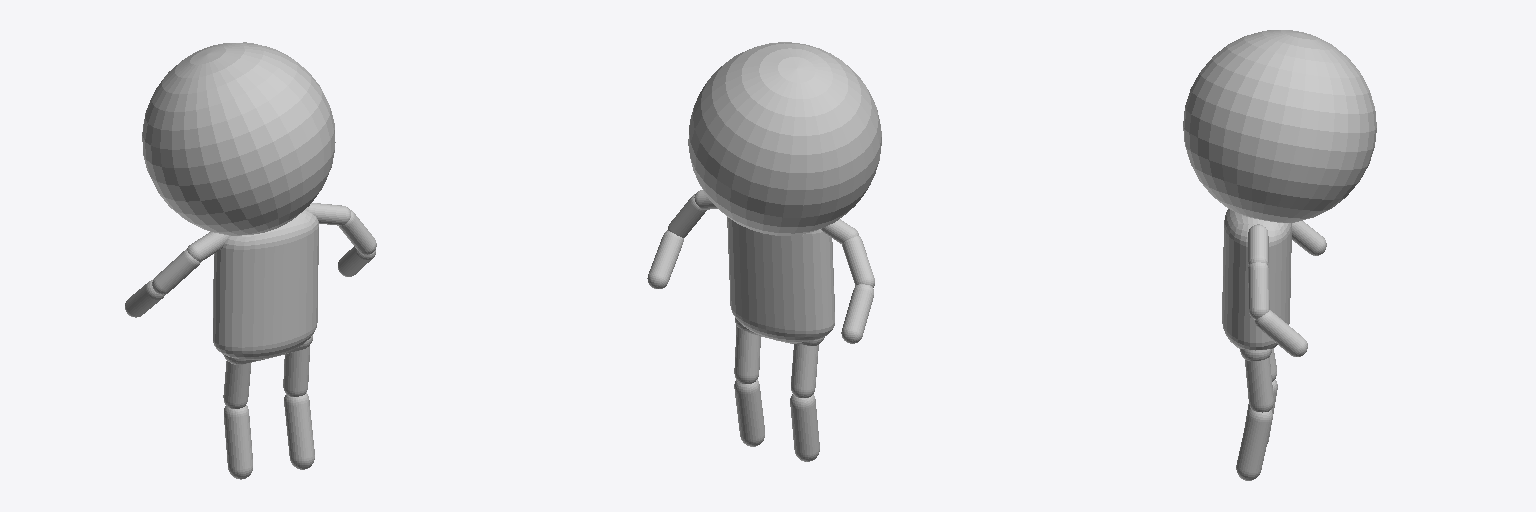
Rendered from Stickman_000070.obj.
The picture shows the model from 3 angles: view 1: azimuth 30°, elevation 25°; view 2: azimuth 150°, elevation 25°; view 3: azimuth 270°, elevation 25°; orthographic projection.
Parts seen in each view (by area): view 1: Head_Sphere.001, Body_Roundcube.002, LowerLegLeft_Roundcube.013, LowerLegRight_Roundcube.011, UpperLegLeft_Roundcube.012, UpperLegRight_Roundcube.010, UpperArmRight_Roundcube.015, UpperArmLeft_Roundcube.018, LowerArmRight_Roundcube.016, ShoulderLeft_Roundcube.017, ShoulderRight_Roundcube.014, LowerArmLeft_Roundcube.019; view 2: Head_Sphere.001, Body_Roundcube.002, LowerLegRight_Roundcube.011, LowerLegLeft_Roundcube.013, UpperLegRight_Roundcube.010, UpperLegLeft_Roundcube.012, LowerArmRight_Roundcube.016, LowerArmLeft_Roundcube.019, UpperArmRight_Roundcube.015, UpperArmLeft_Roundcube.018; view 3: Head_Sphere.001, Body_Roundcube.002, LowerLegLeft_Roundcube.013, UpperLegLeft_Roundcube.012, LowerArmLeft_Roundcube.019, UpperArmLeft_Roundcube.018, LowerArmRight_Roundcube.016, ShoulderLeft_Roundcube.017.
Part boxes in pixels (left/top/right/bottom): Head_Sphere.001: left=142, top=42, right=335, bottom=235; Body_Roundcube.002: left=213, top=209, right=318, bottom=359; LowerLegLeft_Roundcube.013: left=284, top=392, right=314, bottom=469; LowerLegRight_Roundcube.011: left=224, top=405, right=252, bottom=479; UpperLegLeft_Roundcube.012: left=283, top=346, right=309, bottom=396; UpperLegRight_Roundcube.010: left=223, top=361, right=250, bottom=408; UpperArmRight_Roundcube.015: left=152, top=249, right=200, bottom=294; UpperArmLeft_Roundcube.018: left=339, top=210, right=376, bottom=254; LowerArmRight_Roundcube.016: left=125, top=279, right=165, bottom=317; ShoulderLeft_Roundcube.017: left=306, top=203, right=350, bottom=225; ShoulderRight_Roundcube.014: left=187, top=232, right=228, bottom=261; LowerArmLeft_Roundcube.019: left=338, top=246, right=375, bottom=276; Head_Sphere.001: left=688, top=42, right=881, bottom=235; Body_Roundcube.002: left=727, top=217, right=834, bottom=342; LowerLegRight_Roundcube.011: left=790, top=394, right=819, bottom=461; LowerLegLeft_Roundcube.013: left=734, top=379, right=764, bottom=446; UpperLegRight_Roundcube.010: left=791, top=344, right=818, bottom=397; UpperLegLeft_Roundcube.012: left=734, top=325, right=760, bottom=383; LowerArmRight_Roundcube.016: left=841, top=284, right=873, bottom=343; LowerArmLeft_Roundcube.019: left=647, top=230, right=683, bottom=288; UpperArmRight_Roundcube.015: left=842, top=236, right=874, bottom=287; UpperArmLeft_Roundcube.018: left=668, top=194, right=706, bottom=237; Head_Sphere.001: left=1183, top=30, right=1376, bottom=222; Body_Roundcube.002: left=1222, top=209, right=1291, bottom=350; LowerLegLeft_Roundcube.013: left=1236, top=408, right=1272, bottom=480; UpperLegLeft_Roundcube.012: left=1245, top=357, right=1273, bottom=412; LowerArmLeft_Roundcube.019: left=1255, top=310, right=1307, bottom=356; UpperArmLeft_Roundcube.018: left=1248, top=262, right=1269, bottom=319; LowerArmRight_Roundcube.016: left=1292, top=221, right=1326, bottom=255; ShoulderLeft_Roundcube.017: left=1248, top=224, right=1268, bottom=264.
Bounding box in the file's own units: 7.16 × 12.79 × 5.38.